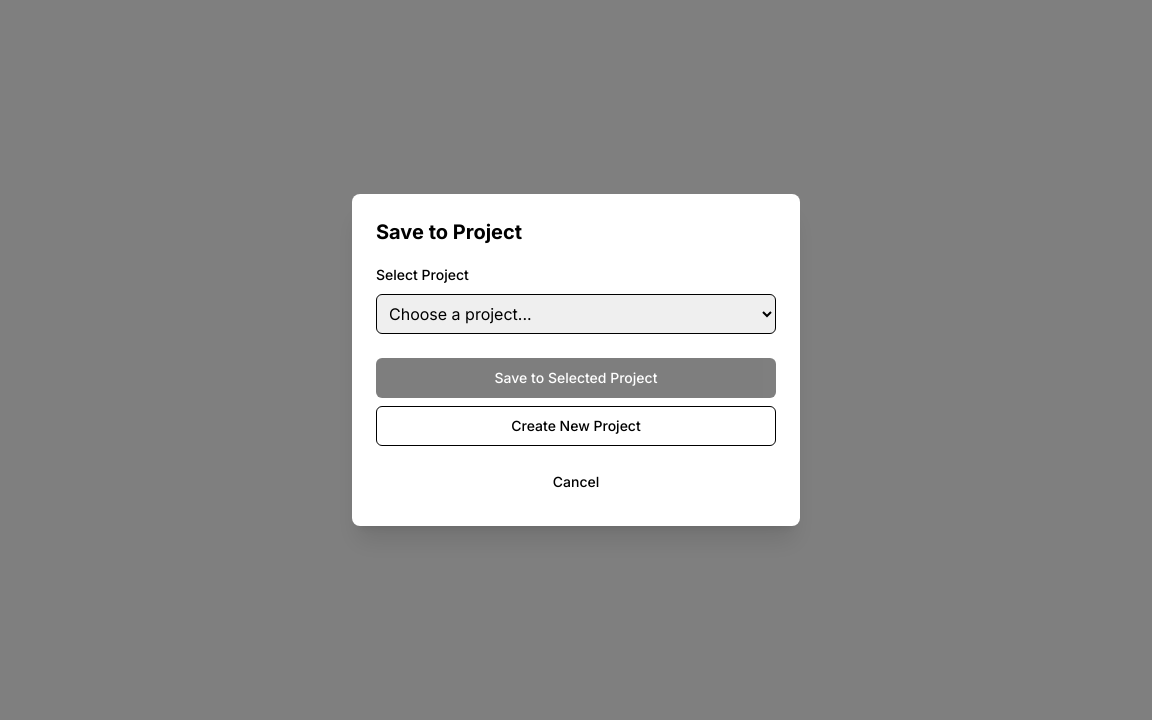
Test case: SaveToProjectModal › should allow creating new project
Click the button "Create New Project" at (576, 426), box [376,406,776,446]
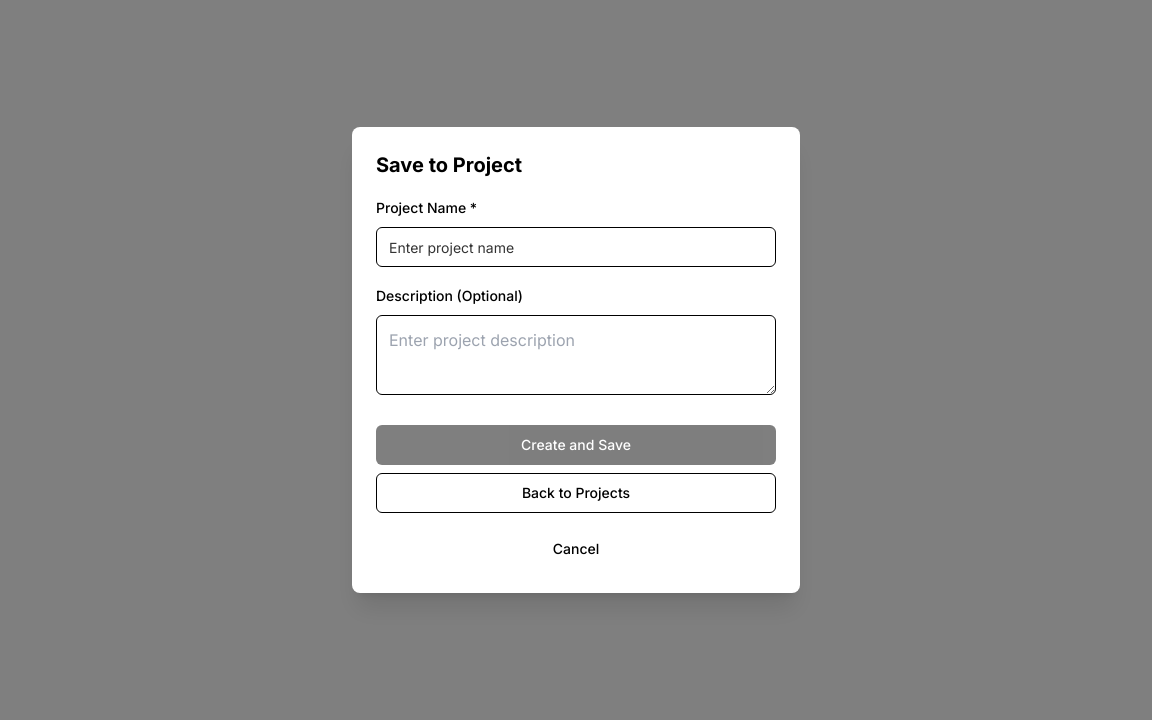
Result: the field with placeholder "Enter project name" is shown at [376,227,776,267]
